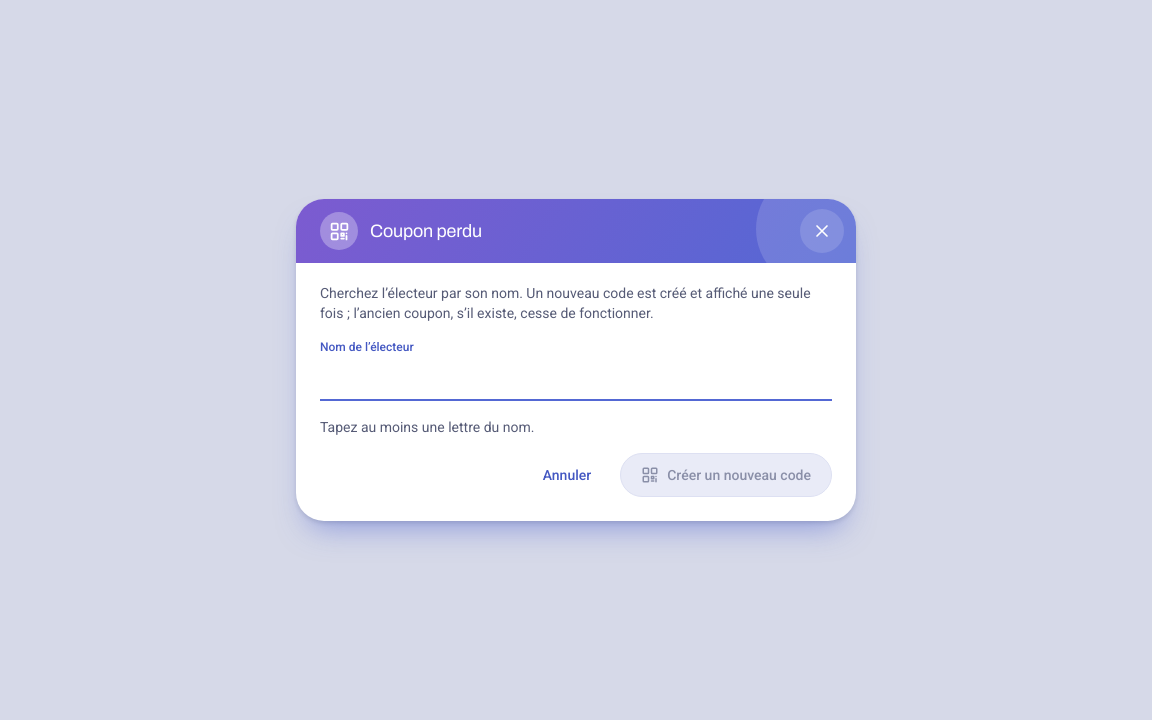
Scenario: LostSlipDialog email › sends email true when checked and says the message is queued
Type "Rose" into the search field with test id "lost-search".
click(576, 379); type("Rose")  # box 320,357 -> 832,401
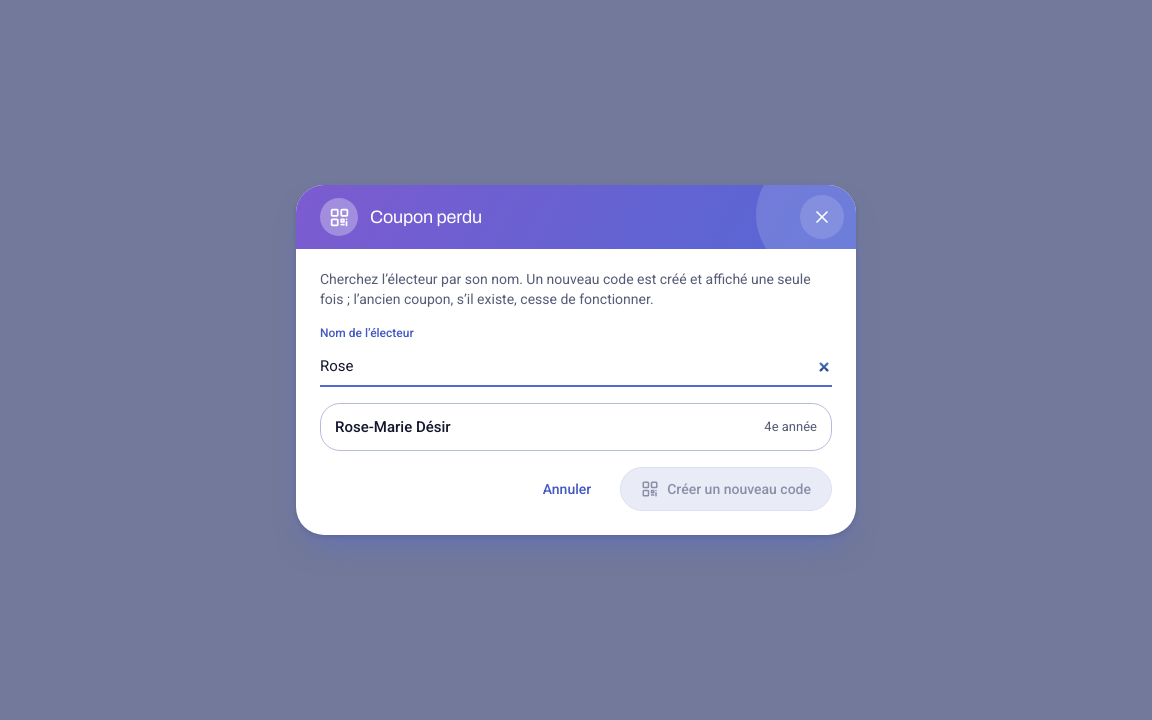
Now the button with test id "lost-voter-1" is shown
Click the button with test id "lost-voter-1".
click(393, 427)  # box 320,403 -> 832,451
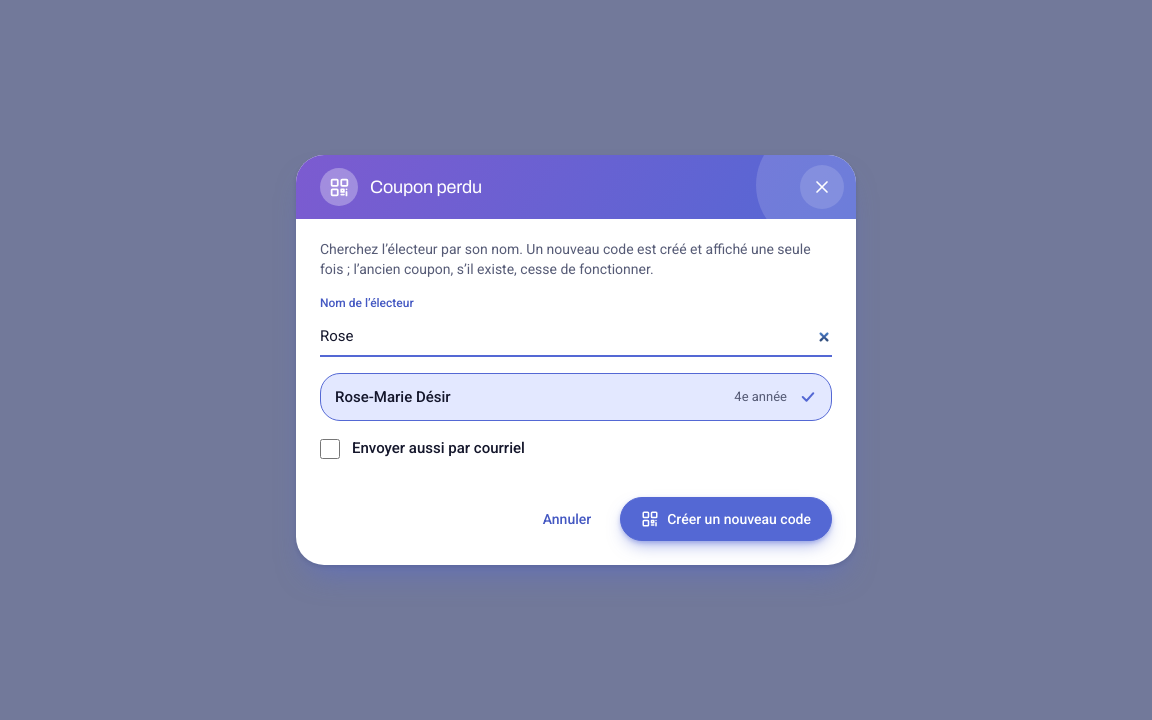
Click the checkbox with test id "lost-email".
click(330, 449)  # box 320,439 -> 340,459
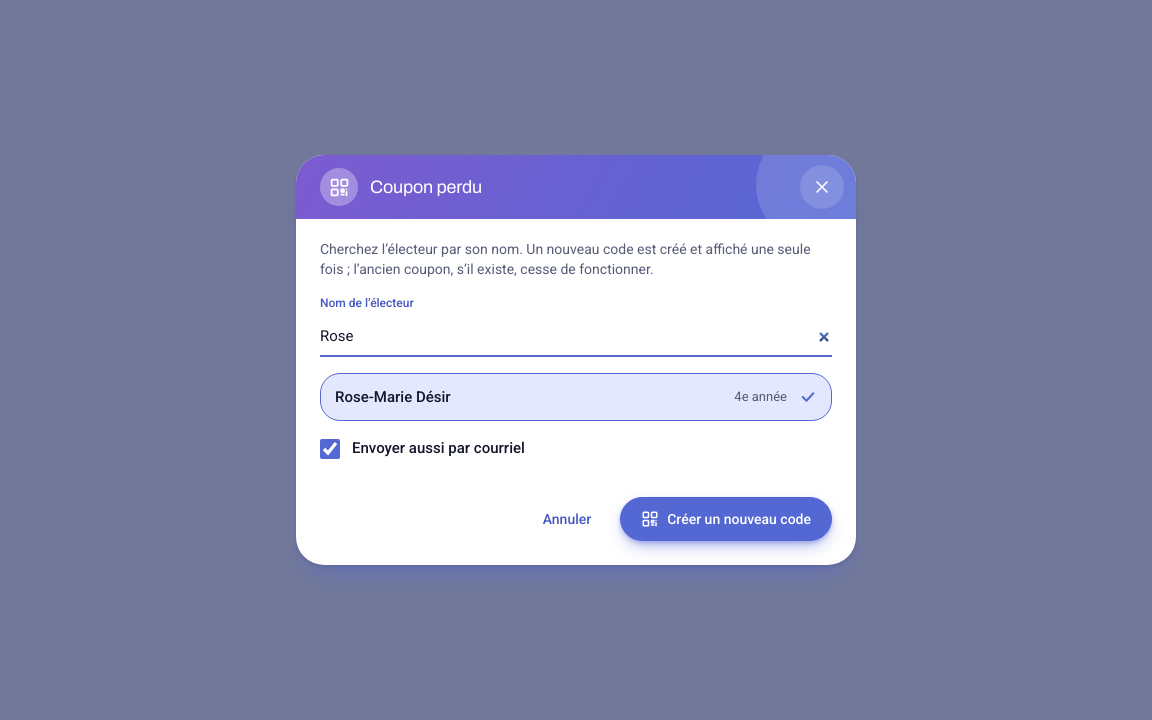
Click the button with test id "lost-confirm".
click(726, 519)  # box 620,497 -> 832,541
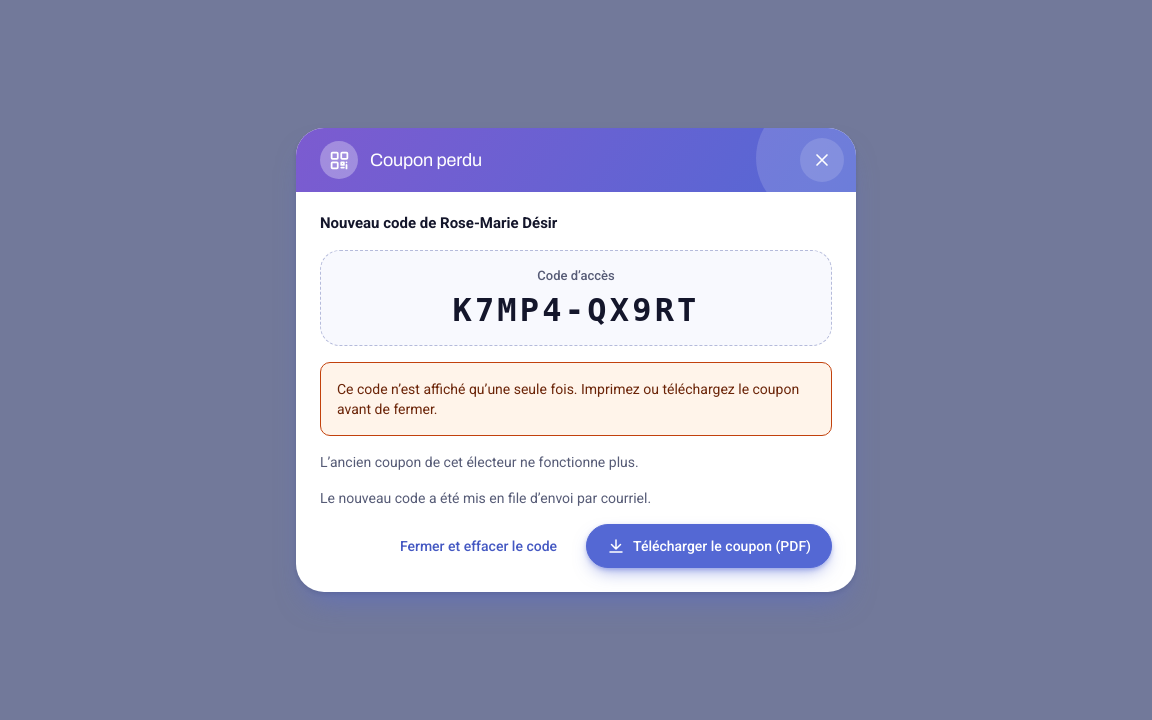
Now the text "Le nouveau code a été mis en file d’envoi par courriel." is shown, box 320,490 -> 651,506
